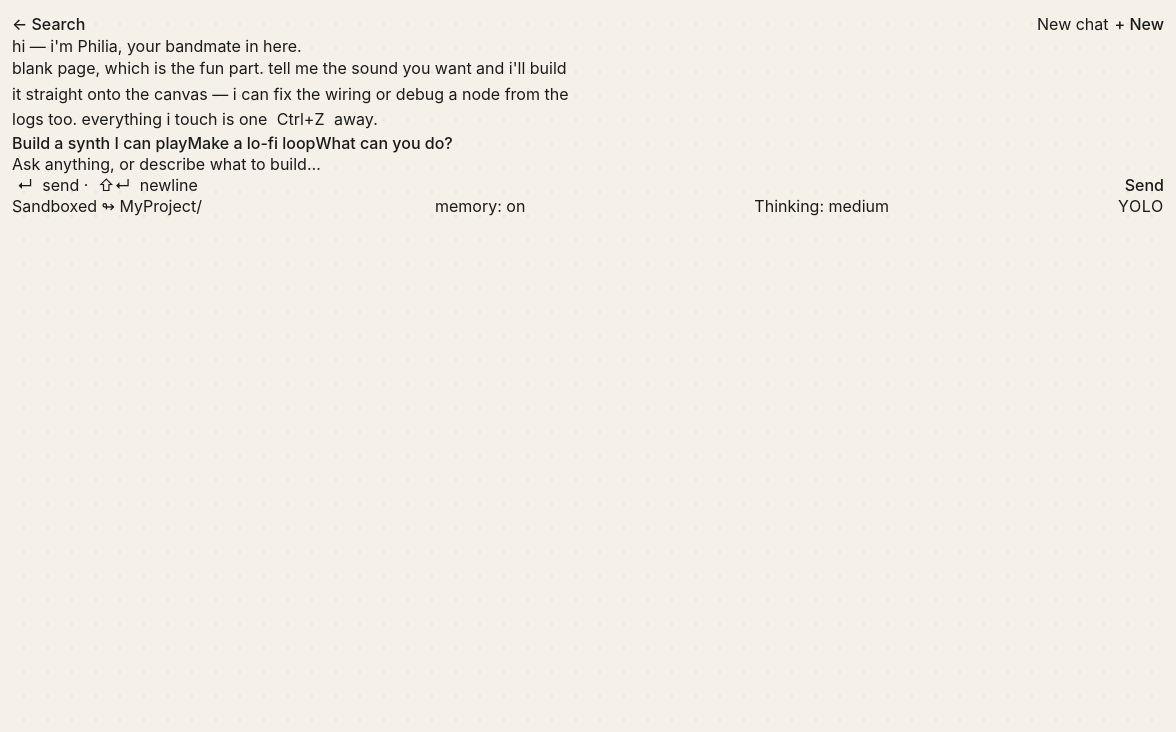
Test: AiPanel chat › typing / opens a command menu with built-in commands
Type "/" into the text box with placeholder "Ask anything, or describe what to build…" at point(588, 164), box [12, 153, 1164, 175]
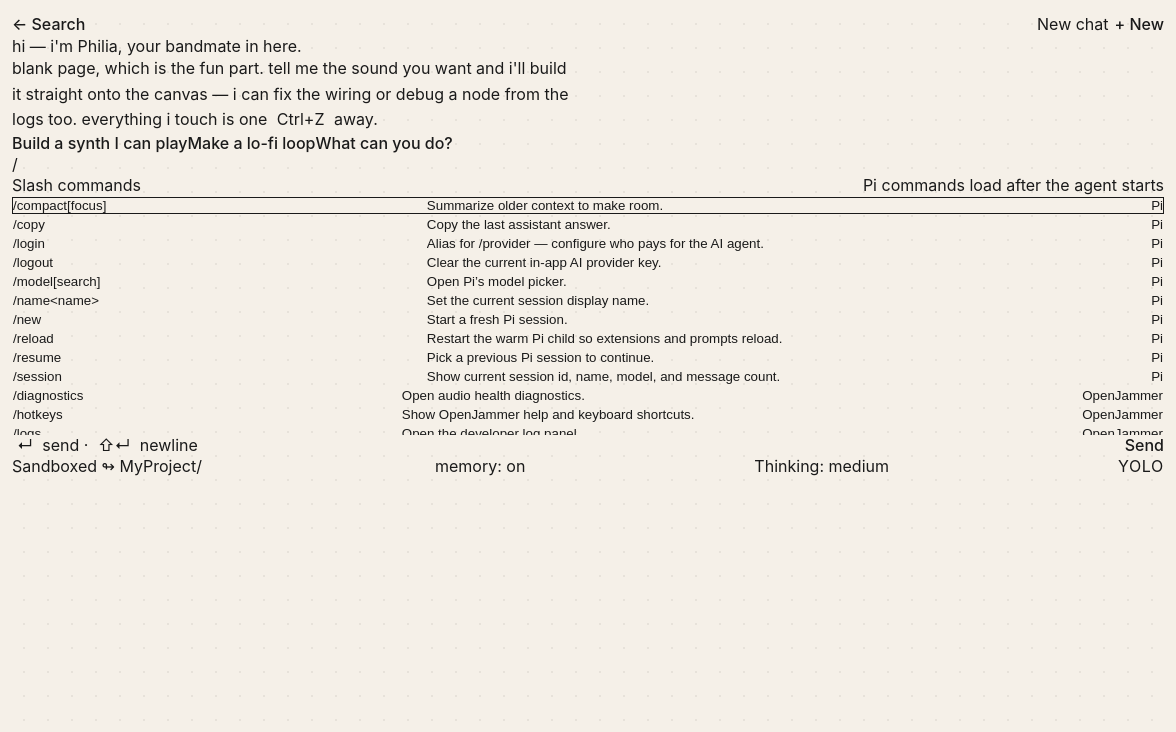
Check: the text "/new" is shown, box [13, 312, 41, 327]
Check: the text "/session" is shown, box [13, 369, 62, 384]
